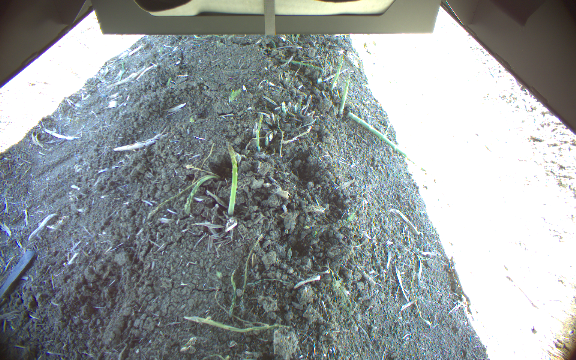aspa: (222, 142, 240, 216), (325, 50, 347, 92), (338, 71, 351, 115)
